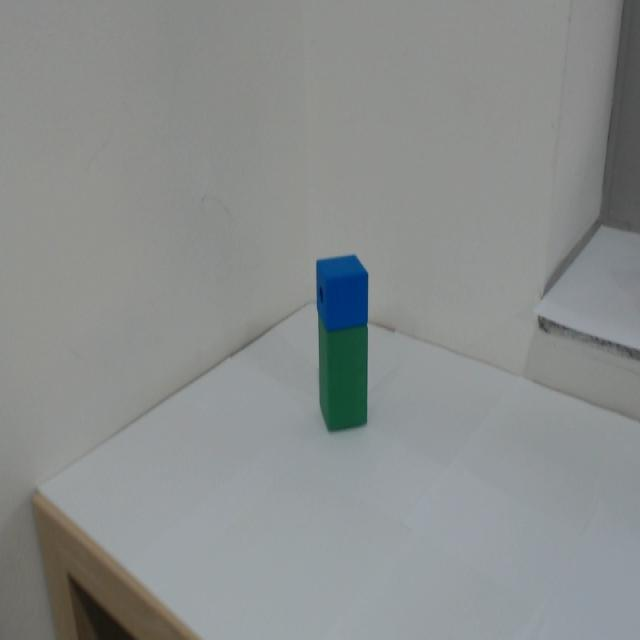cube: (304, 227, 381, 324)
